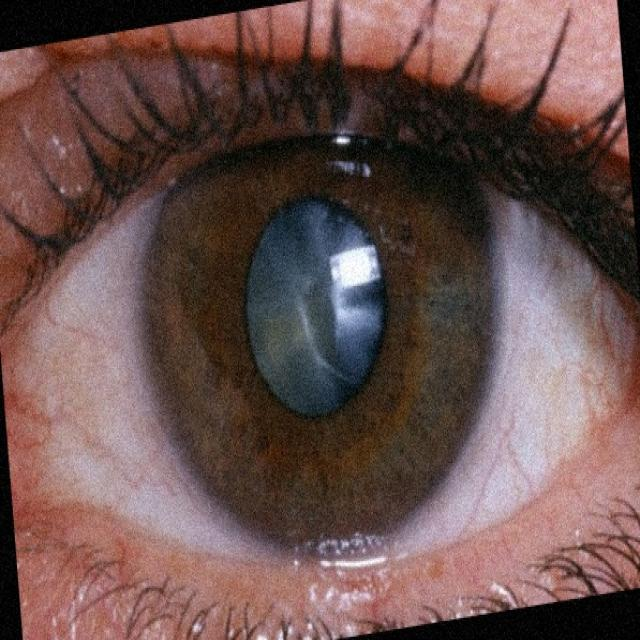Cataract: (19, 28, 603, 602)
